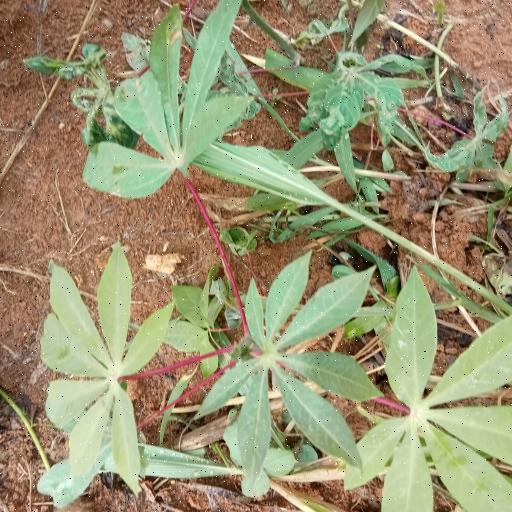Cassava_Mosaic: (87, 2, 245, 198)
